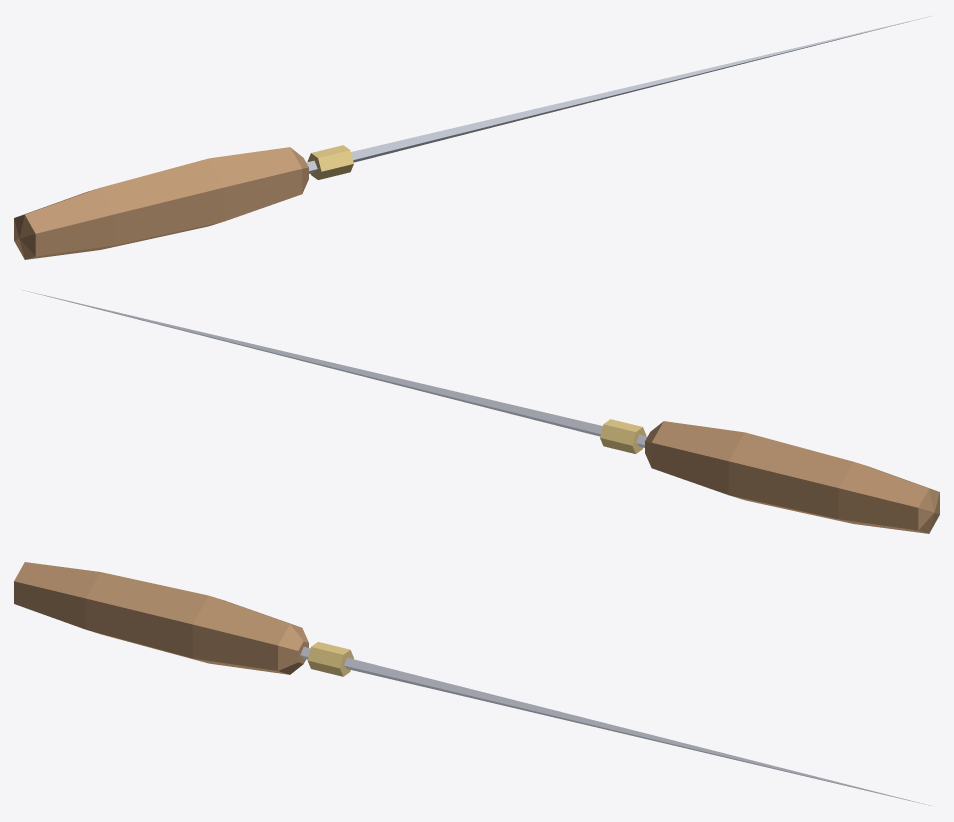
The model's file is prop-regulator-needle.fbx.
3 renders of one model, top to bottom at view 1: azimuth 30°, elevation 25°; view 2: azimuth 150°, elevation 25°; view 3: azimuth 330°, elevation 25°, orthographic.
Parts seen in each view (by area): view 1: prop-regulator-needle; view 2: prop-regulator-needle; view 3: prop-regulator-needle.
Part boxes in pixels (x1,y1,x2,y2): prop-regulator-needle: (14, 16, 931, 259); prop-regulator-needle: (22, 290, 939, 533); prop-regulator-needle: (14, 562, 931, 805).
Size of the model in its own units: 34 by 2.4 by 2.08.
